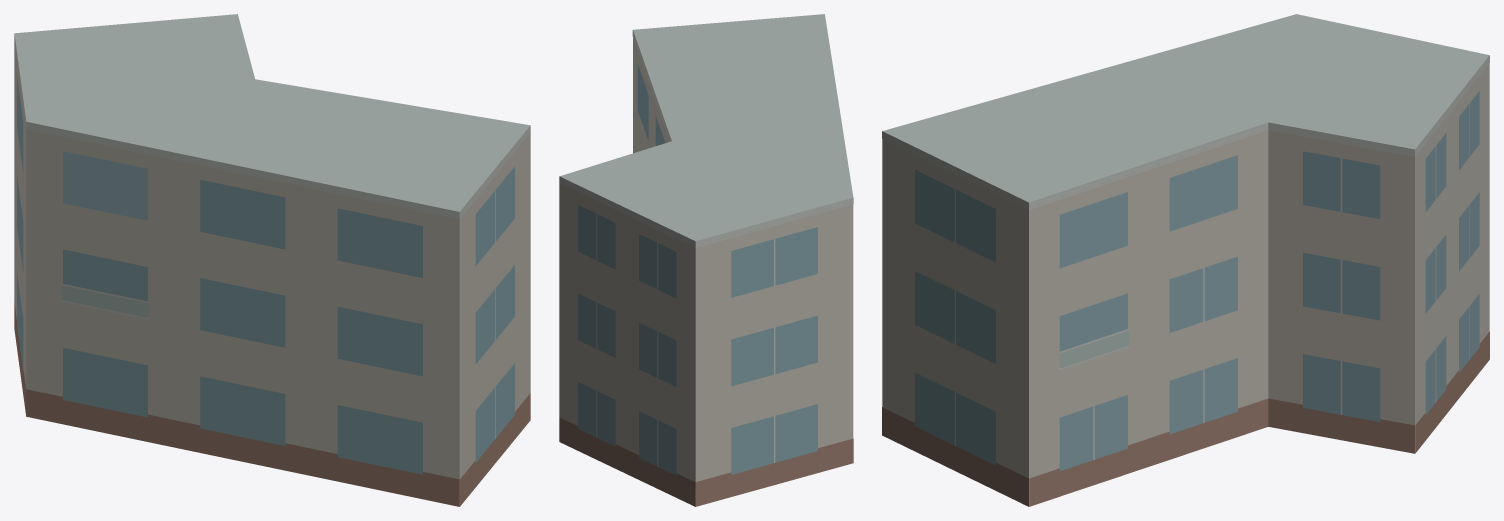
The model's file is survey-upis-32980106.glb.
3 views of the same model, side by side, from view 1: azimuth 30°, elevation 25°; view 2: azimuth 150°, elevation 25°; view 3: azimuth 270°, elevation 25° (orthographic). The views are drawn at different scales.
Visible parts, largest first — view 1: survey-upis-32980106.tmp; view 2: survey-upis-32980106.tmp; view 3: survey-upis-32980106.tmp.
Boxes of the visible parts, <box> form: survey-upis-32980106.tmp: <box>14,14,530,506</box>; survey-upis-32980106.tmp: <box>559,14,853,506</box>; survey-upis-32980106.tmp: <box>882,14,1489,506</box>.
Size of the model in its own units: 12.77 by 9.6 by 17.38.
